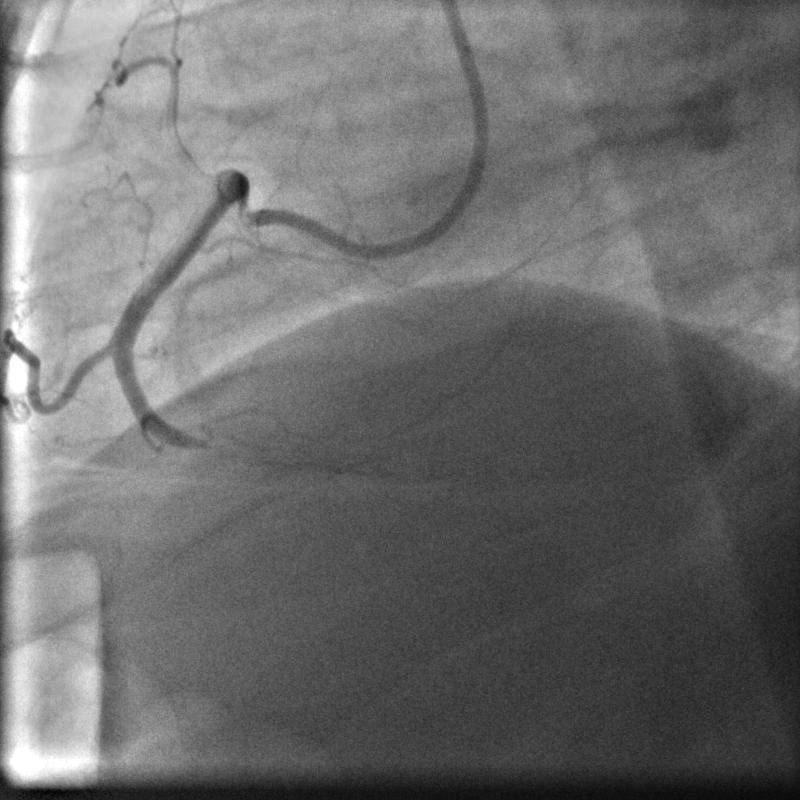Stenosis: (178, 431, 235, 457)
